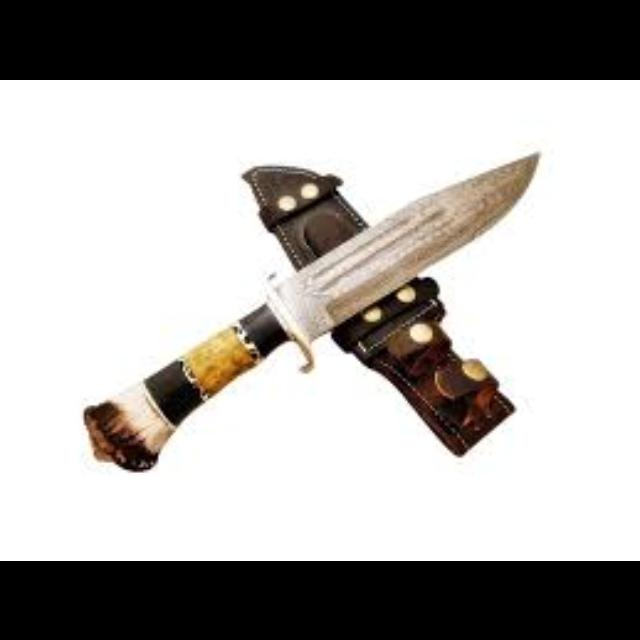Knife: (82, 148, 540, 470)
